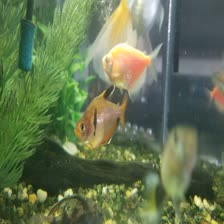Guppy: (140, 118, 202, 211)
Plano: (100, 35, 169, 87)
Transparente: (67, 82, 136, 148)
